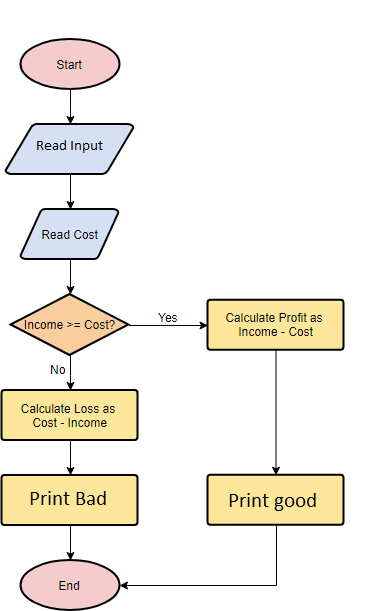arrow: (121, 524, 281, 591), (269, 348, 283, 473), (129, 320, 209, 331), (64, 357, 76, 390), (65, 91, 77, 123), (65, 442, 76, 476), (65, 259, 75, 294), (65, 527, 76, 557), (66, 176, 76, 208)
data: (5, 120, 134, 177), (17, 206, 119, 264)
decision: (7, 294, 129, 354)
process: (204, 472, 348, 528), (203, 298, 347, 353), (2, 386, 142, 442), (1, 472, 141, 528)
terminator: (17, 35, 122, 91), (18, 559, 122, 610)
text: (223, 309, 323, 338), (21, 400, 116, 429), (226, 489, 319, 511), (26, 488, 109, 508), (22, 317, 120, 331), (34, 139, 106, 153), (38, 228, 100, 242), (52, 55, 83, 72), (55, 577, 83, 592), (47, 363, 67, 377), (156, 310, 179, 322)
